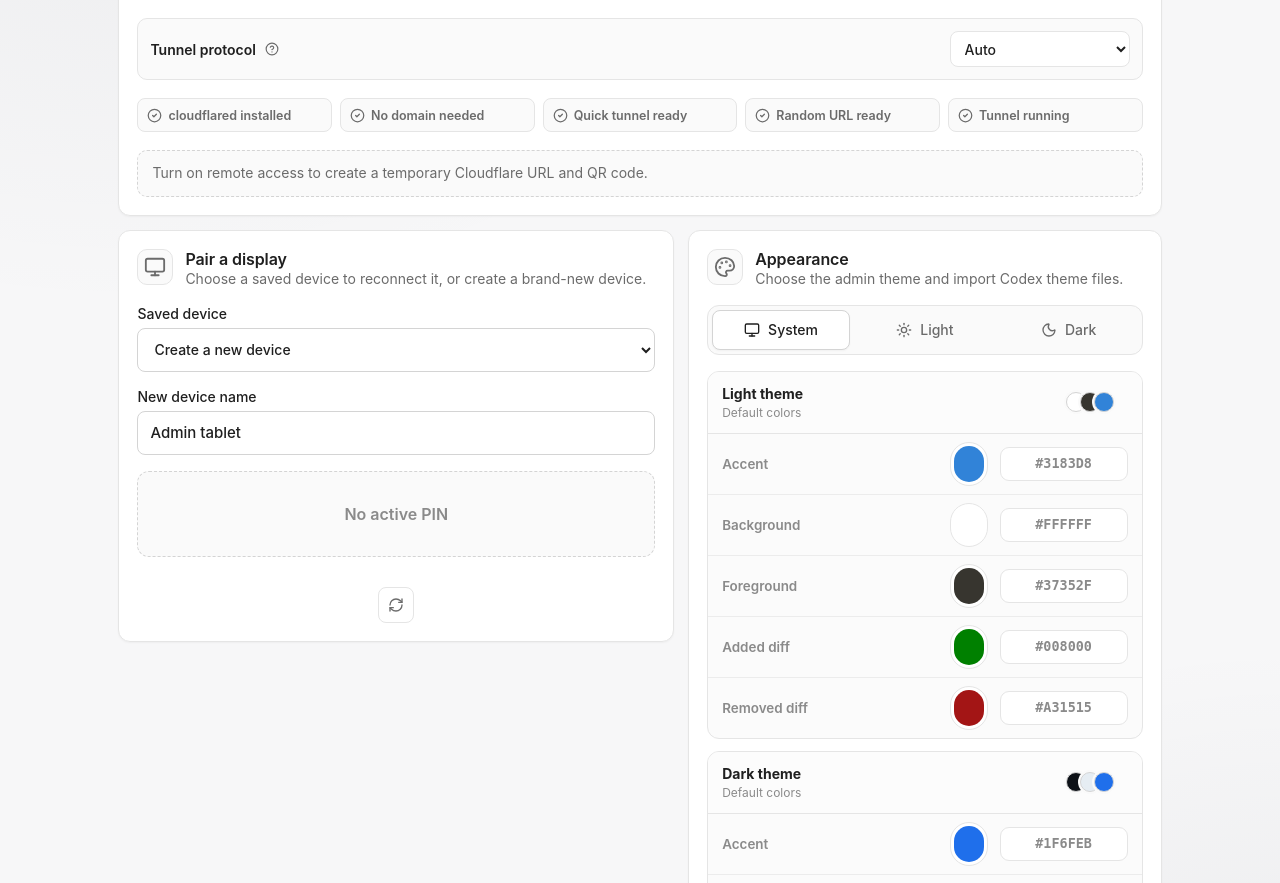
Test case: Agent Pulse tablet UI › lets admin name a new PIN and rename a paired device
(page scrolled)
Replace the text in the field labelled "New device name" with "Kitchen iPad" at (396, 433), box [137, 411, 655, 455]
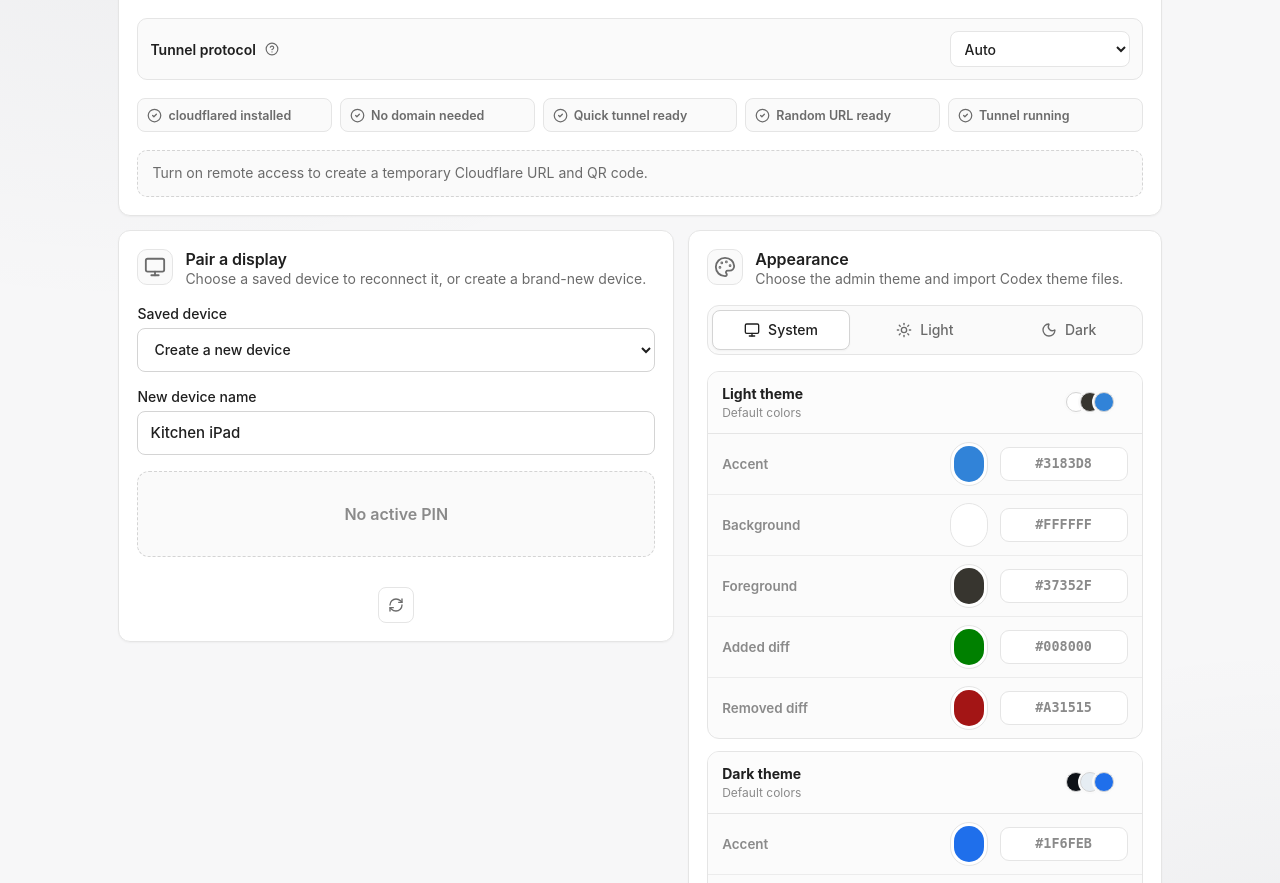
Click the button titled "Generate PIN".
click(396, 605)  # box [378, 587, 414, 623]
(page scrolled)
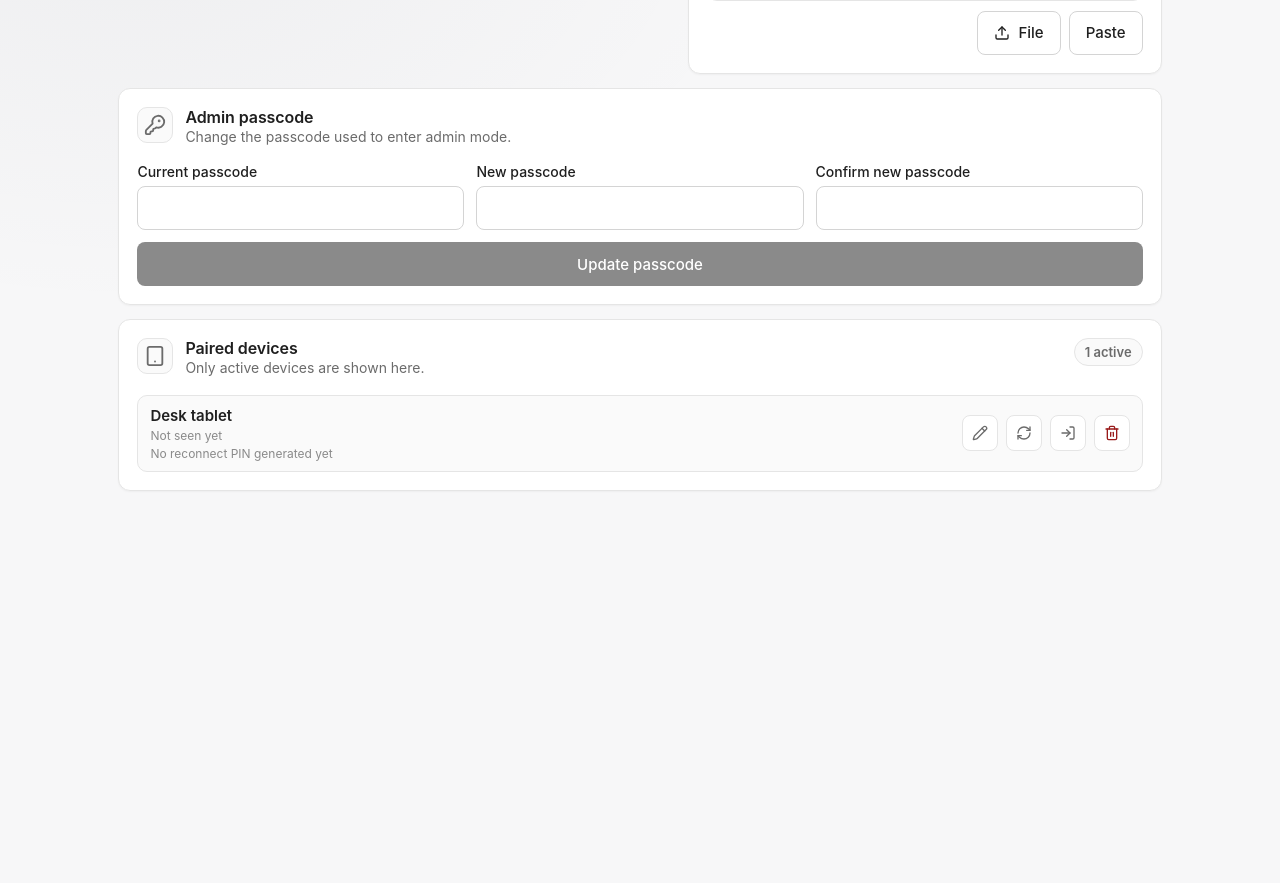
Click the button titled "Rename".
click(980, 433)  # box [962, 415, 998, 451]
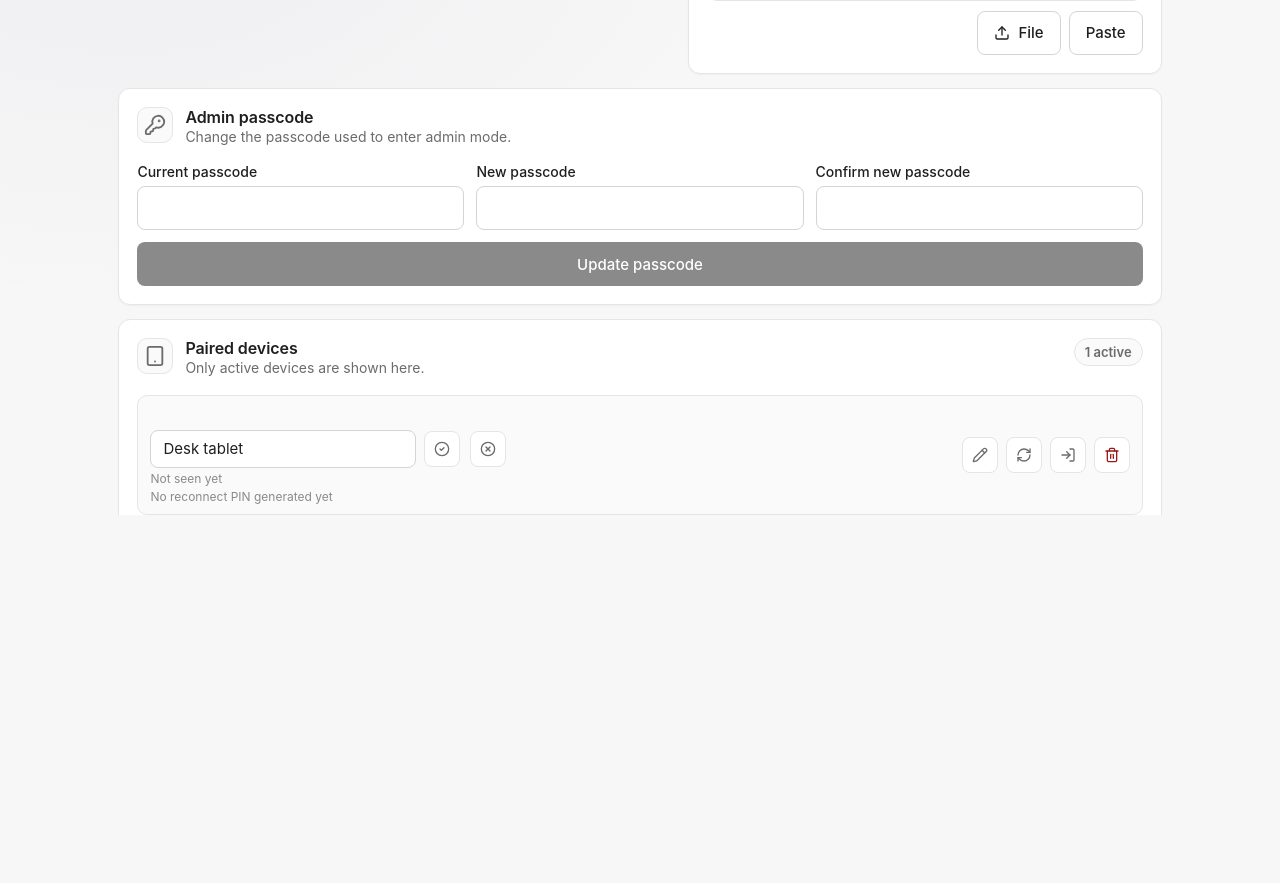
Replace the text in the field named "Device name for Desk tablet" with "Office iPhone" at (283, 449), box [150, 430, 416, 468]
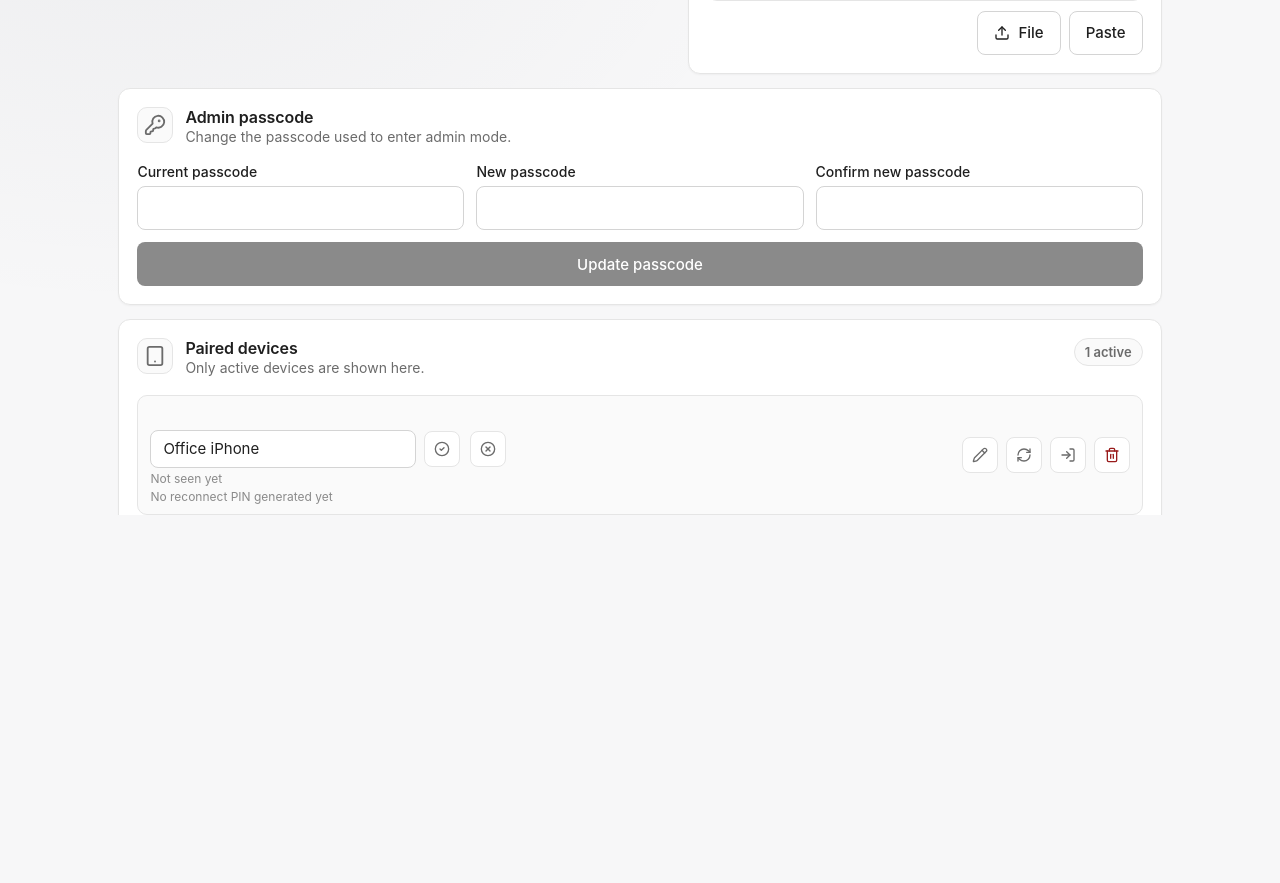
Click the button titled "Save name".
click(442, 449)  # box [424, 431, 460, 467]
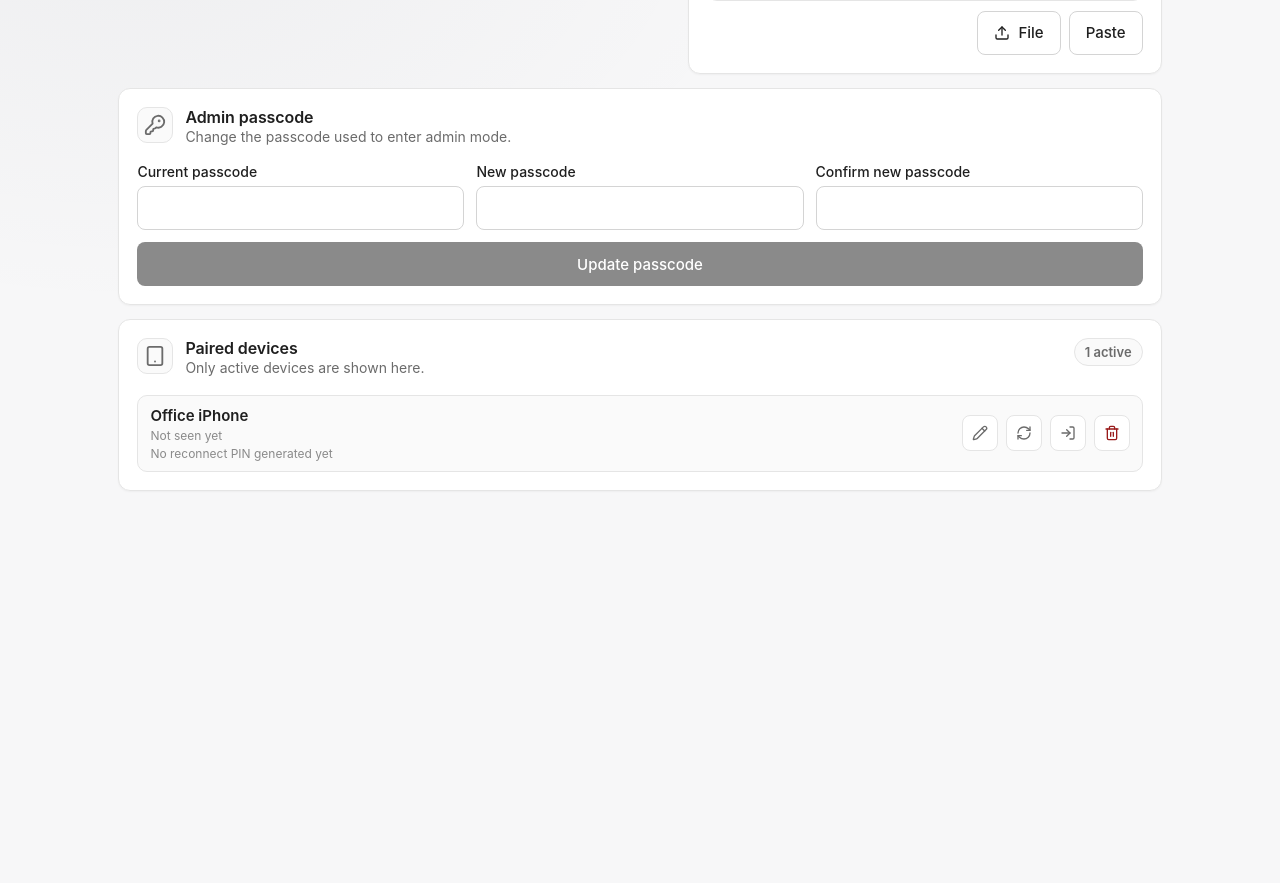
Expected: the text "Office iPhone" is shown, [150, 406, 248, 425]
